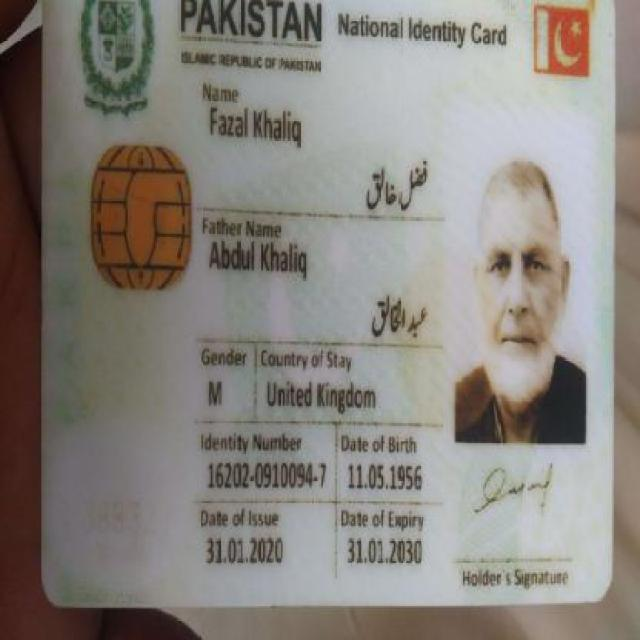Front: (29, 2, 620, 603)
